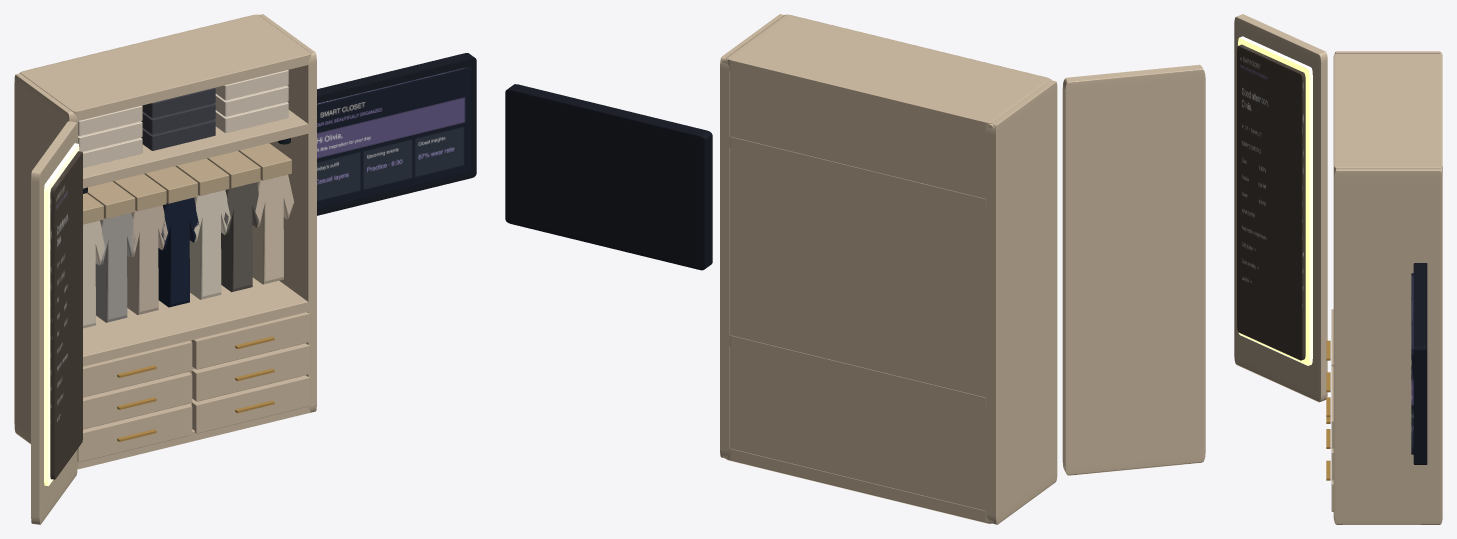
3 renders of one model, left to right at view 1: azimuth 30°, elevation 25°; view 2: azimuth 150°, elevation 25°; view 3: azimuth 270°, elevation 25°, orthographic. The views are drawn at different scales.
Parts seen in each view (by area): view 1: Dashboard display, Crown, Smart mirror, Drawer top, Left side, Right side, Open mirror door, Upper shelf, Dashboard enclosure, Drawer 4, Drawer 2, Drawer 6 (+27 smaller); view 2: Cabinet · back, Open mirror door, Dashboard enclosure, Left side, Crown, Right side, Plinth, Drawer top, Upper shelf; view 3: Right side, Smart mirror, Crown, Open mirror door, Mirror glow frame, Dashboard enclosure, Dashboard display.
Part boxes in pixels (left/top/right/bottom): Dashboard display: left=317, top=67, right=471, bottom=209; Crown: left=20, top=14, right=311, bottom=120; Smart mirror: left=50, top=151, right=82, bottom=479; Drawer top: left=83, top=277, right=308, bottom=366; Left side: left=14, top=73, right=77, bottom=464; Right side: left=259, top=14, right=316, bottom=413; Open mirror door: left=31, top=121, right=77, bottom=524; Upper shelf: left=83, top=110, right=308, bottom=188; Dashboard enclosure: left=317, top=53, right=476, bottom=215; Drawer 4: left=191, top=343, right=310, bottom=401; Drawer 2: left=191, top=375, right=310, bottom=433; Drawer 6: left=191, top=312, right=310, bottom=369; Cabinet · back: left=722, top=59, right=993, bottom=523; Open mirror door: left=1062, top=64, right=1205, bottom=475; Dashboard enclosure: left=505, top=84, right=712, bottom=270; Left side: left=986, top=80, right=1057, bottom=524; Crown: left=726, top=14, right=1051, bottom=133; Right side: left=720, top=14, right=784, bottom=457; Plinth: left=728, top=448, right=988, bottom=522; Drawer top: left=729, top=335, right=986, bottom=408; Upper shelf: left=729, top=136, right=986, bottom=209; Right side: left=1333, top=168, right=1442, bottom=524; Smart mirror: left=1237, top=44, right=1305, bottom=360; Crown: left=1333, top=53, right=1442, bottom=174; Open mirror door: left=1234, top=14, right=1327, bottom=402; Mirror glow frame: left=1238, top=36, right=1312, bottom=365; Dashboard enclosure: left=1413, top=263, right=1427, bottom=464; Dashboard display: left=1411, top=273, right=1413, bottom=454.
Size of the model in its own units: 3.57 by 2.3 by 1.22.
53 materials, 2 textured.
